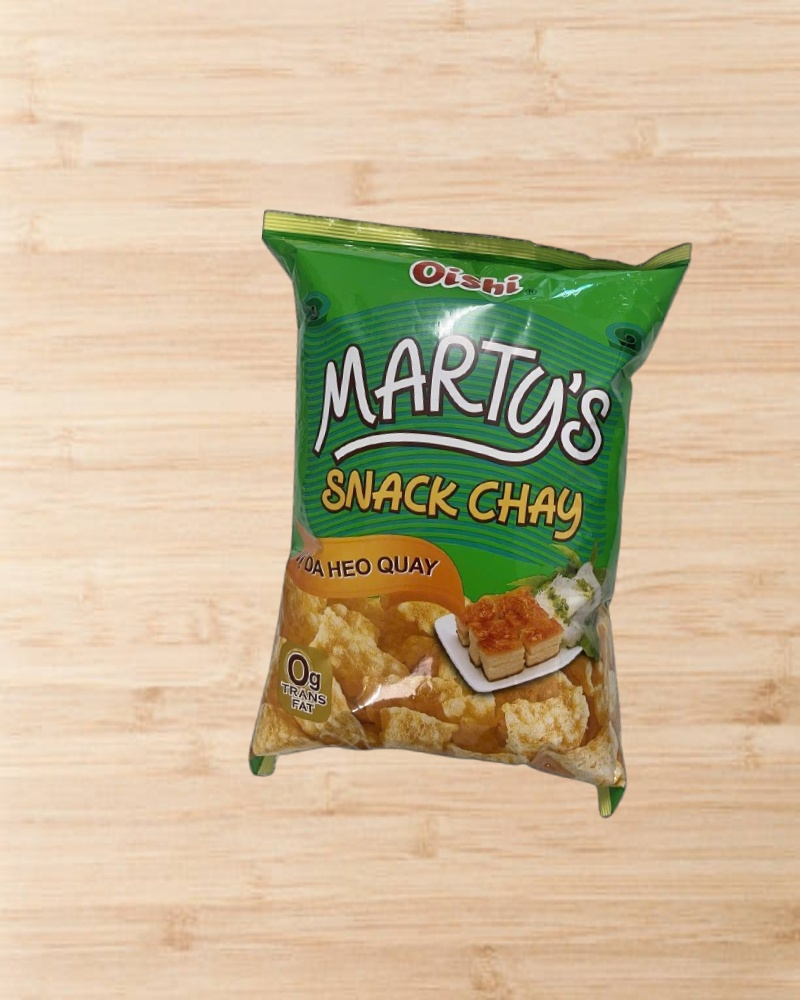Snack chay: (215, 206, 693, 822)
